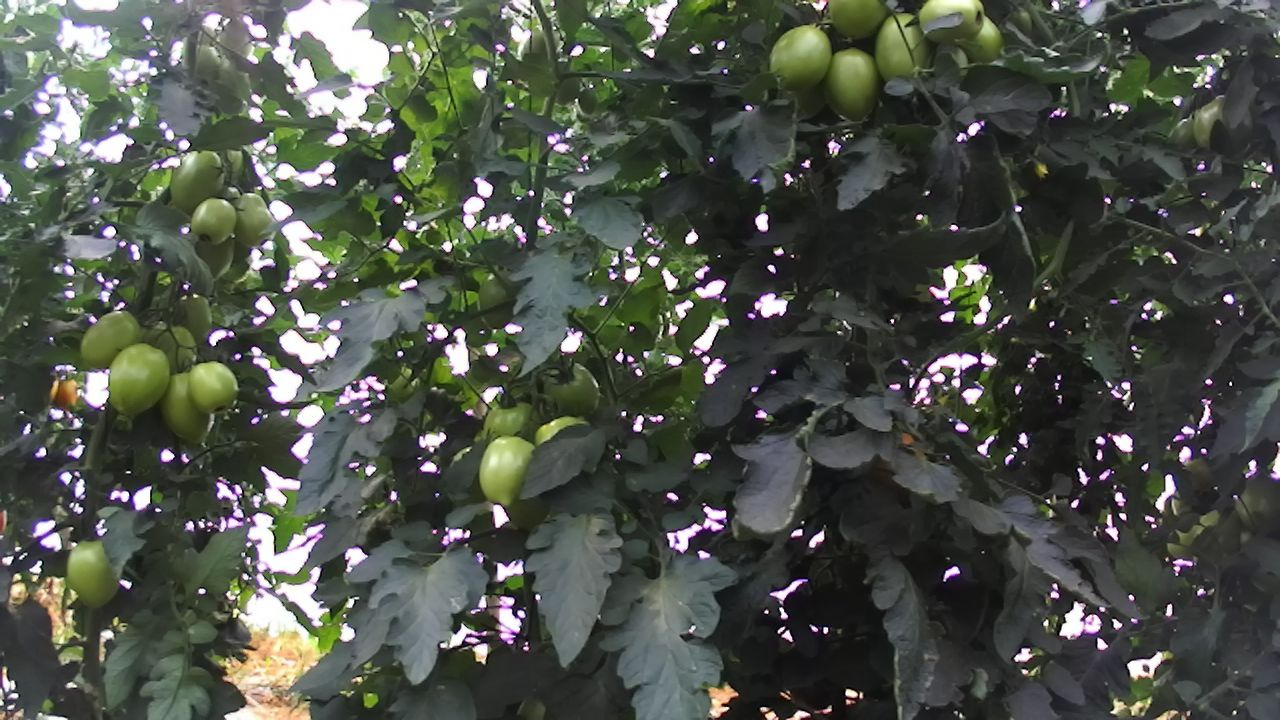tomato: (818, 44, 887, 126), (765, 17, 837, 94), (104, 339, 172, 419), (872, 7, 938, 86), (64, 531, 127, 613), (153, 365, 216, 446), (475, 430, 538, 511), (75, 305, 149, 370), (539, 356, 607, 422), (167, 146, 231, 215), (476, 394, 549, 448), (908, 0, 990, 47), (228, 188, 281, 253), (187, 359, 241, 421), (822, 0, 891, 46), (188, 195, 239, 250)
